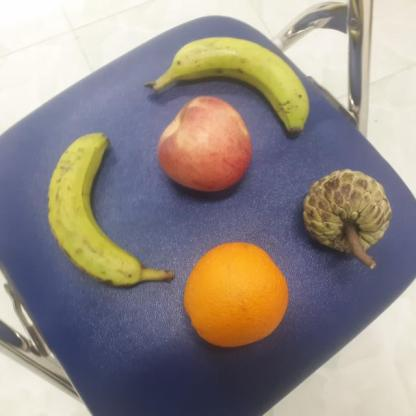annona: (300, 164, 392, 259)
apple: (152, 94, 262, 200)
banana: (148, 35, 316, 136), (45, 129, 147, 294)
orange: (178, 240, 294, 352)
